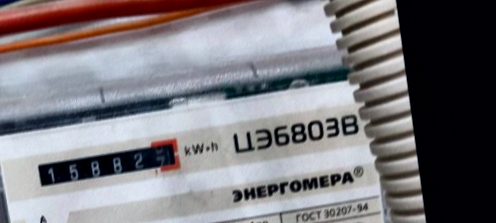1: (46, 162, 58, 181)
2: (133, 148, 146, 168)
5: (68, 160, 81, 178)
7: (156, 152, 168, 165)
8: (89, 156, 103, 175), (111, 152, 125, 171)
screen: (29, 132, 188, 193)
